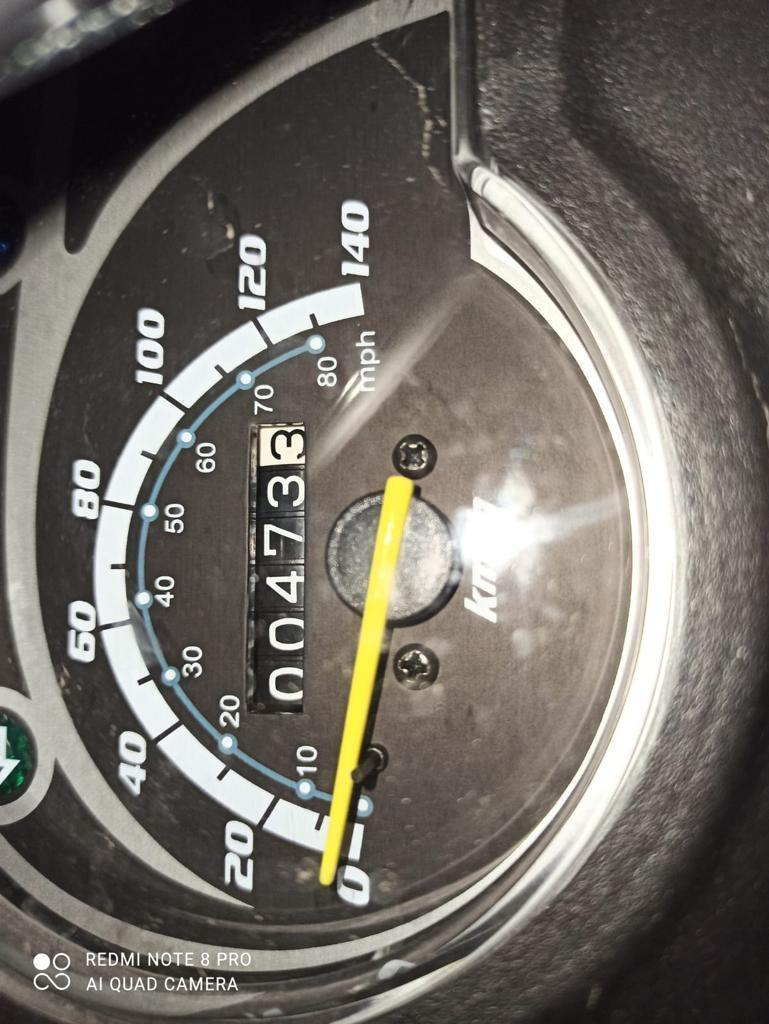0: (262, 663, 310, 704), (264, 616, 311, 655)
3: (265, 428, 314, 464), (262, 474, 309, 510)
4: (260, 566, 307, 603)
7: (258, 520, 306, 557)
odometer: (244, 418, 320, 719)
